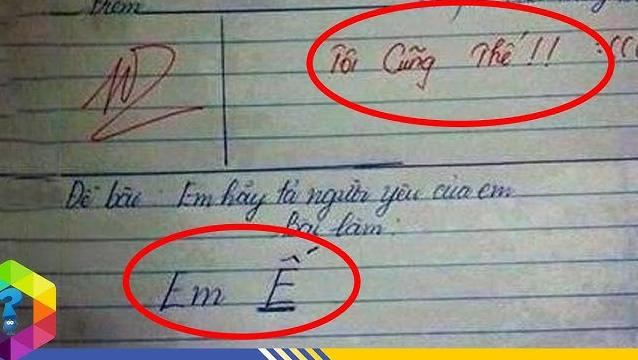text: (62, 173, 518, 224), (327, 30, 563, 92), (79, 39, 209, 147), (156, 244, 322, 316), (419, 0, 638, 22), (274, 210, 402, 240), (604, 30, 638, 62), (85, 0, 144, 17)
